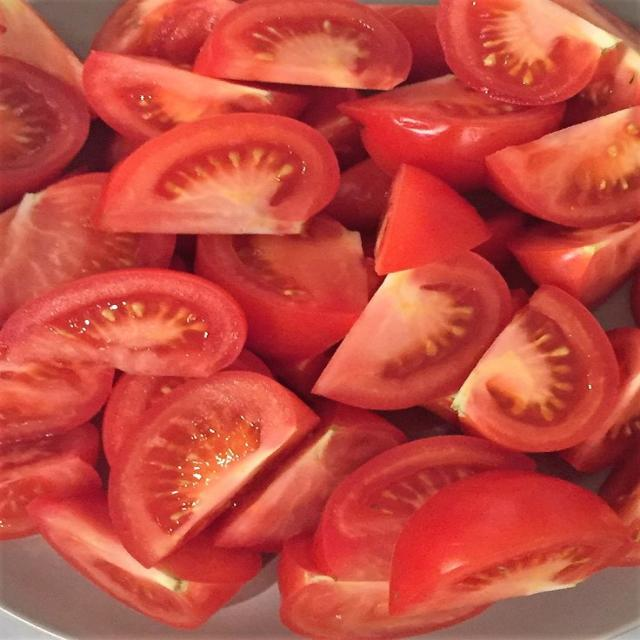sliced_tomato: (109, 371, 318, 566), (390, 471, 628, 614), (314, 435, 535, 580), (29, 492, 258, 628), (314, 253, 511, 409), (96, 113, 339, 233), (212, 403, 406, 552), (454, 286, 619, 451), (0, 268, 246, 376), (0, 174, 174, 323), (340, 75, 564, 190), (196, 217, 367, 358), (279, 536, 484, 639), (83, 51, 306, 141), (194, 0, 411, 89), (438, 0, 619, 105), (487, 107, 639, 227), (0, 56, 89, 209), (375, 165, 490, 274), (0, 424, 99, 540), (560, 328, 639, 472), (509, 223, 639, 306), (0, 358, 113, 443), (92, 0, 235, 64), (0, 454, 101, 540), (102, 374, 191, 461), (0, 0, 82, 94), (564, 43, 639, 126), (370, 4, 449, 82), (146, 0, 235, 66), (157, 531, 262, 585), (300, 87, 366, 169), (0, 423, 99, 477), (600, 439, 639, 566), (323, 159, 391, 231), (466, 191, 527, 269), (553, 0, 639, 50), (474, 204, 526, 268), (269, 348, 334, 399), (378, 406, 459, 440), (421, 394, 461, 434), (226, 349, 273, 378), (105, 132, 140, 169), (510, 288, 529, 315), (630, 273, 639, 326)
